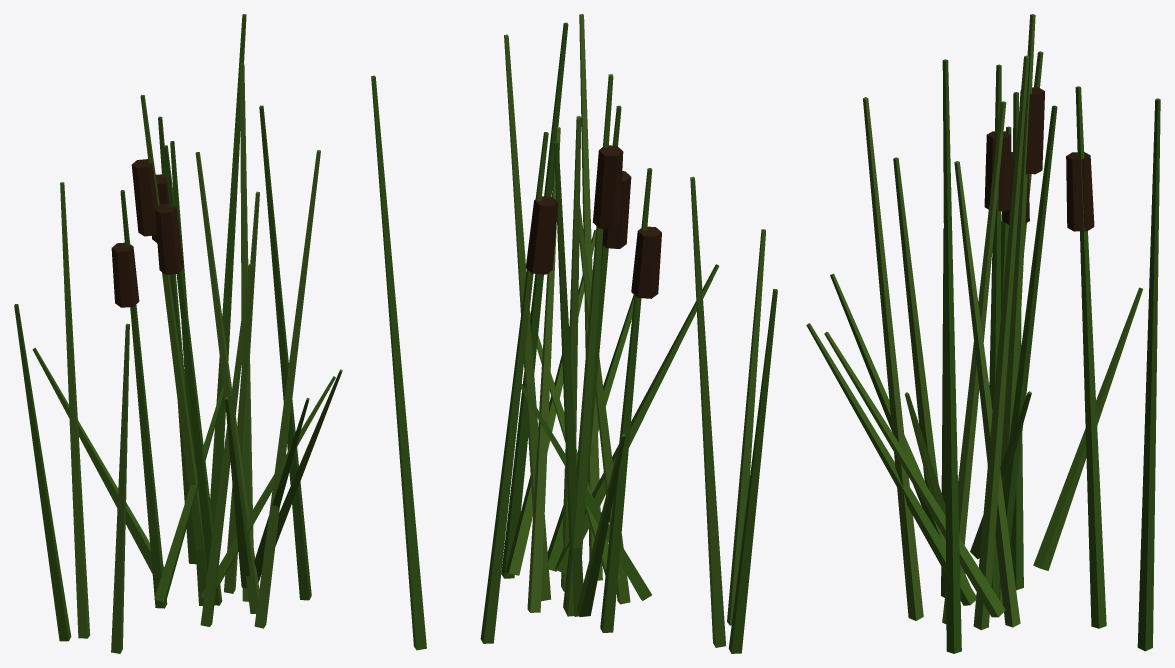
File: ground_reed_1.glb
3 views of the same model, side by side, from view 1: azimuth 30°, elevation 25°; view 2: azimuth 150°, elevation 25°; view 3: azimuth 270°, elevation 25° (orthographic). The views are drawn at different scales.
Parts seen in each view (by area): view 1: leaf, wood; view 2: leaf, wood; view 3: leaf, wood.
Boxes of the visible parts, bbox=[...] form: leaf: bbox=[14, 14, 342, 653]; wood: bbox=[111, 159, 183, 307]; leaf: bbox=[371, 14, 777, 653]; wood: bbox=[525, 145, 661, 298]; leaf: bbox=[806, 14, 1160, 653]; wood: bbox=[984, 87, 1094, 231].
Size of the model in its own units: 1.41 by 2.34 by 1.3.
